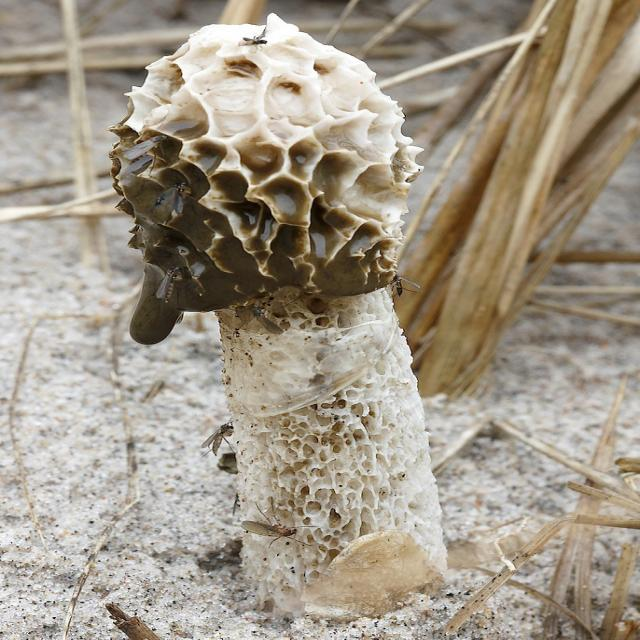Dictyophora indusiate: (108, 15, 452, 612)
